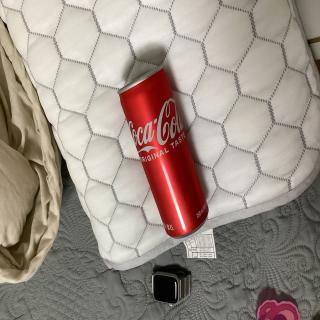cocacola: (113, 51, 219, 252)
